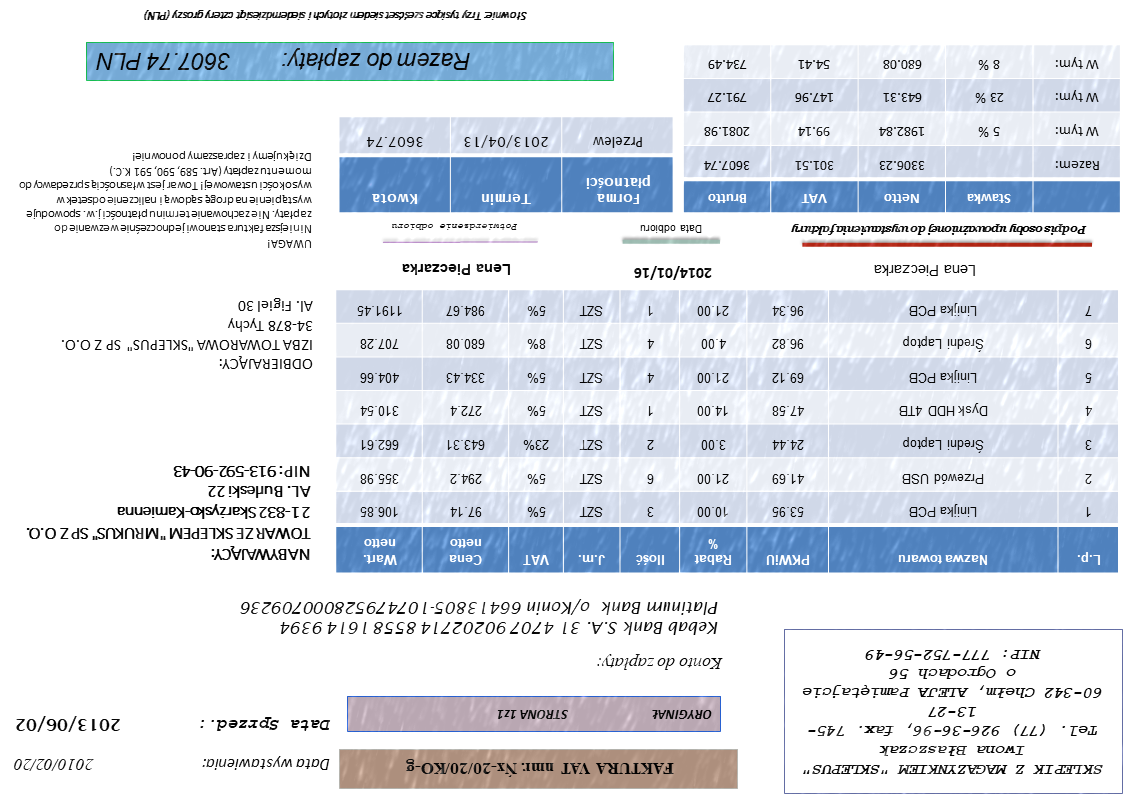Table: (334, 289, 1121, 575), (683, 43, 1122, 214), (337, 116, 674, 213)
TextBox: (799, 646, 1106, 782), (19, 147, 316, 252), (23, 460, 314, 564), (60, 296, 316, 374), (237, 598, 720, 639), (93, 48, 476, 74), (144, 7, 529, 26), (403, 756, 677, 780), (788, 220, 1089, 239), (494, 705, 715, 724), (595, 651, 725, 674), (198, 714, 331, 735), (201, 756, 332, 774), (401, 260, 515, 280), (15, 716, 123, 735), (872, 262, 979, 280), (391, 221, 519, 235), (631, 264, 715, 282), (13, 757, 96, 774), (638, 221, 704, 237)
